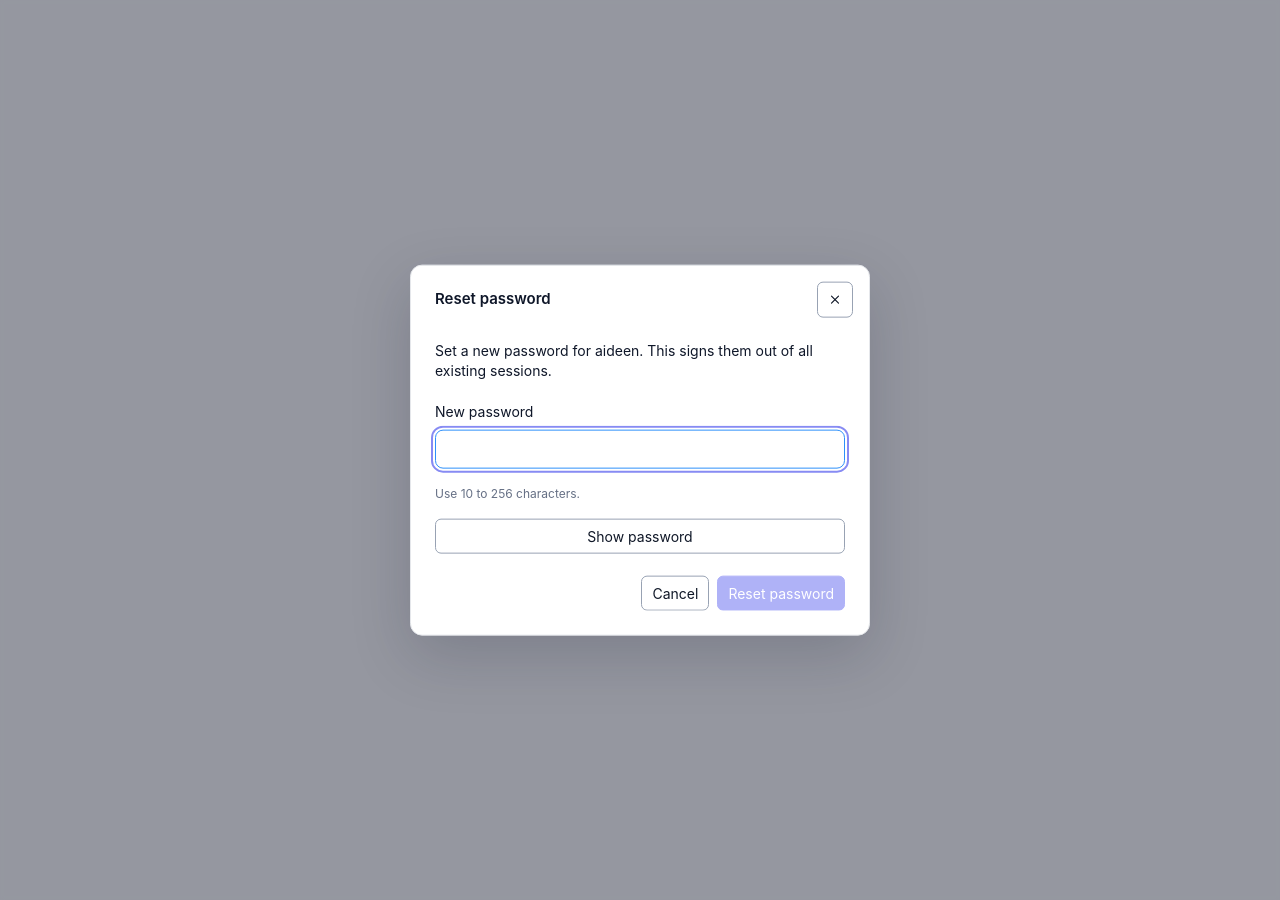
it: keeps failures in the dialog and allows retrying the selected user's reset
Expected: the text "This signs them out" shows "aideen", [435,341,813,378]
Type "replacement-password" into the password field labelled "New password" at (640, 449), box [435,429,845,468]
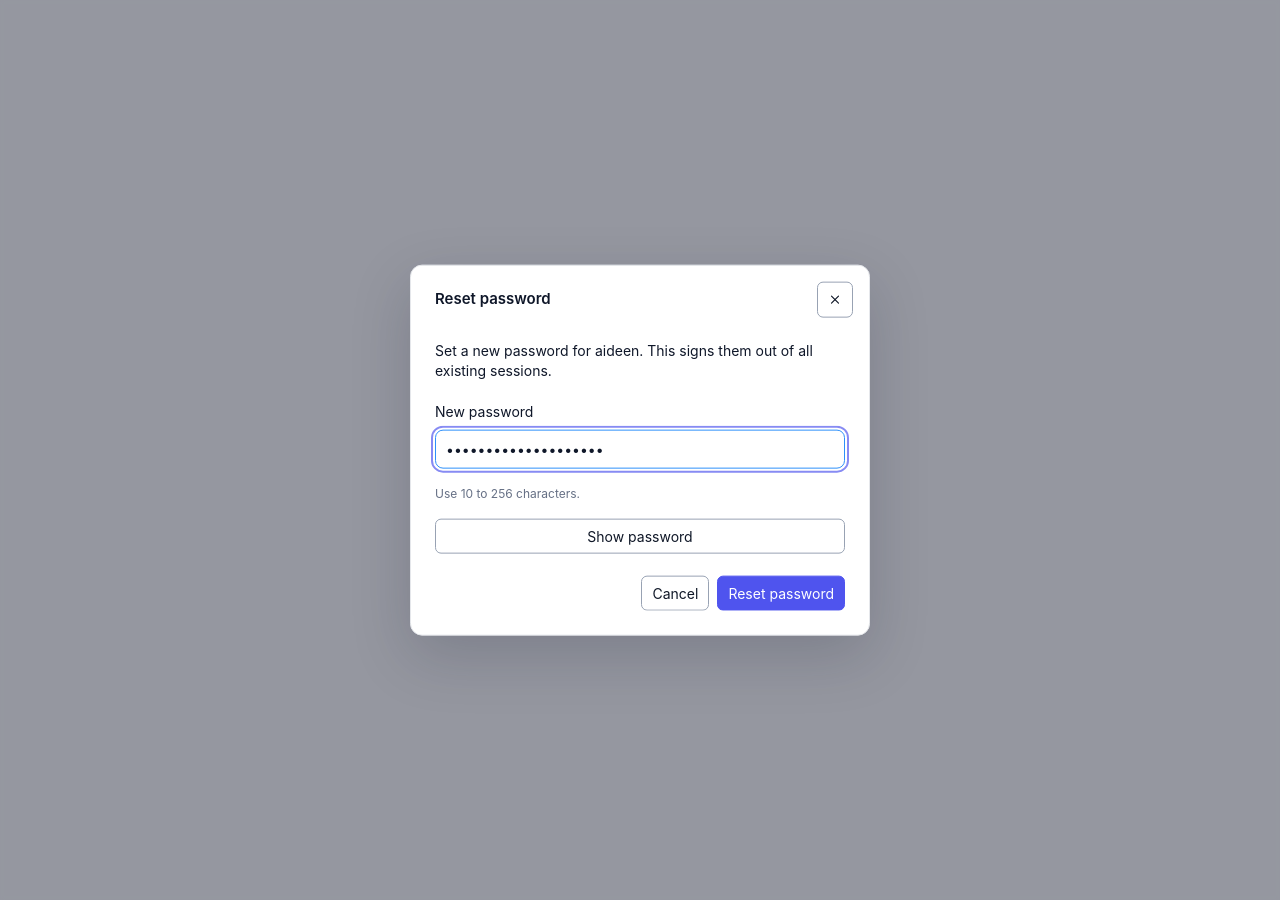
Click the button "Show password" at (640, 536), box [435,518,845,553]
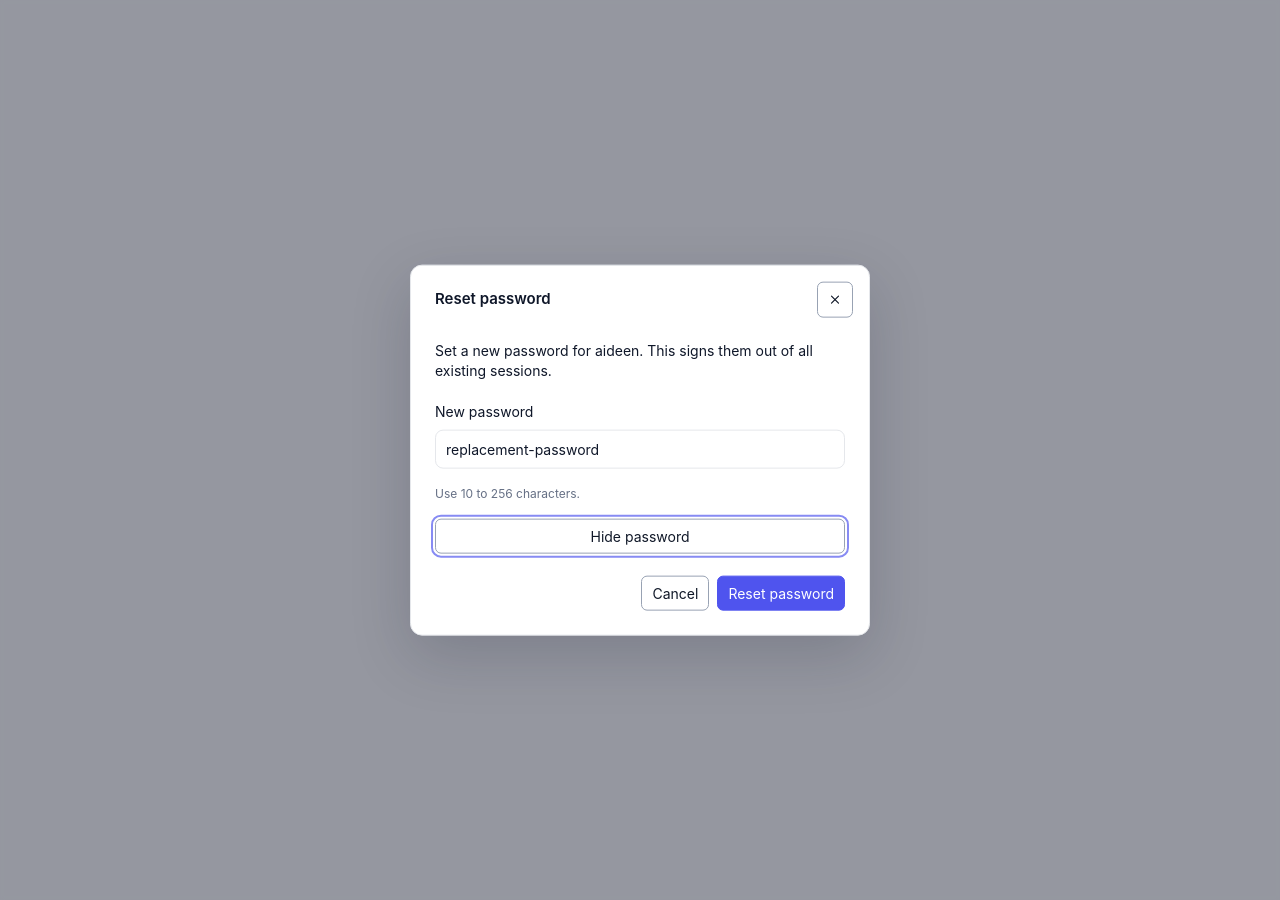
Click the button "Reset password" at (781, 593), box [717,575,845,610]
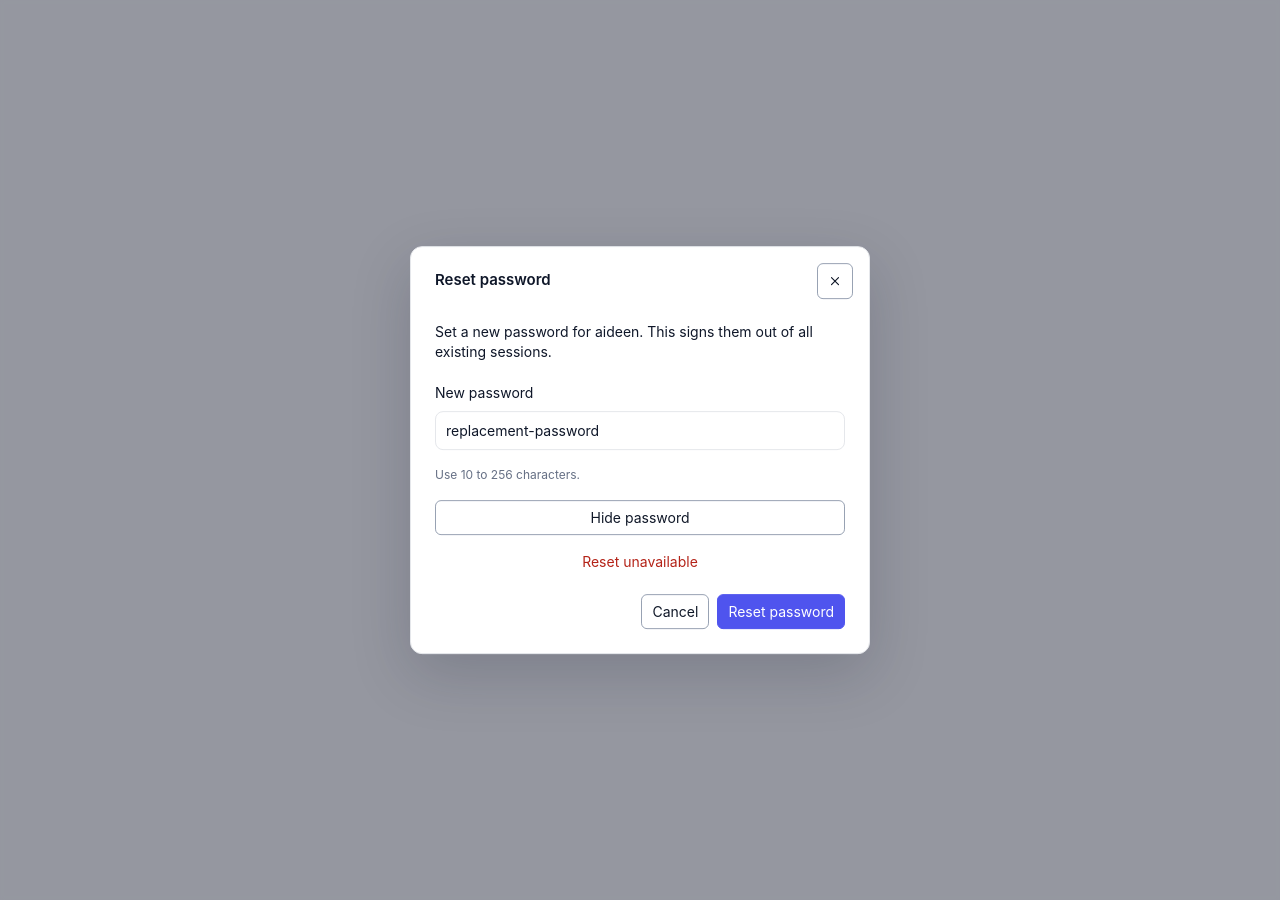
Expected: the message reads "Reset unavailable", [582,553,698,570]
Click the button "Reset password" at (781, 611), box [717,594,845,629]
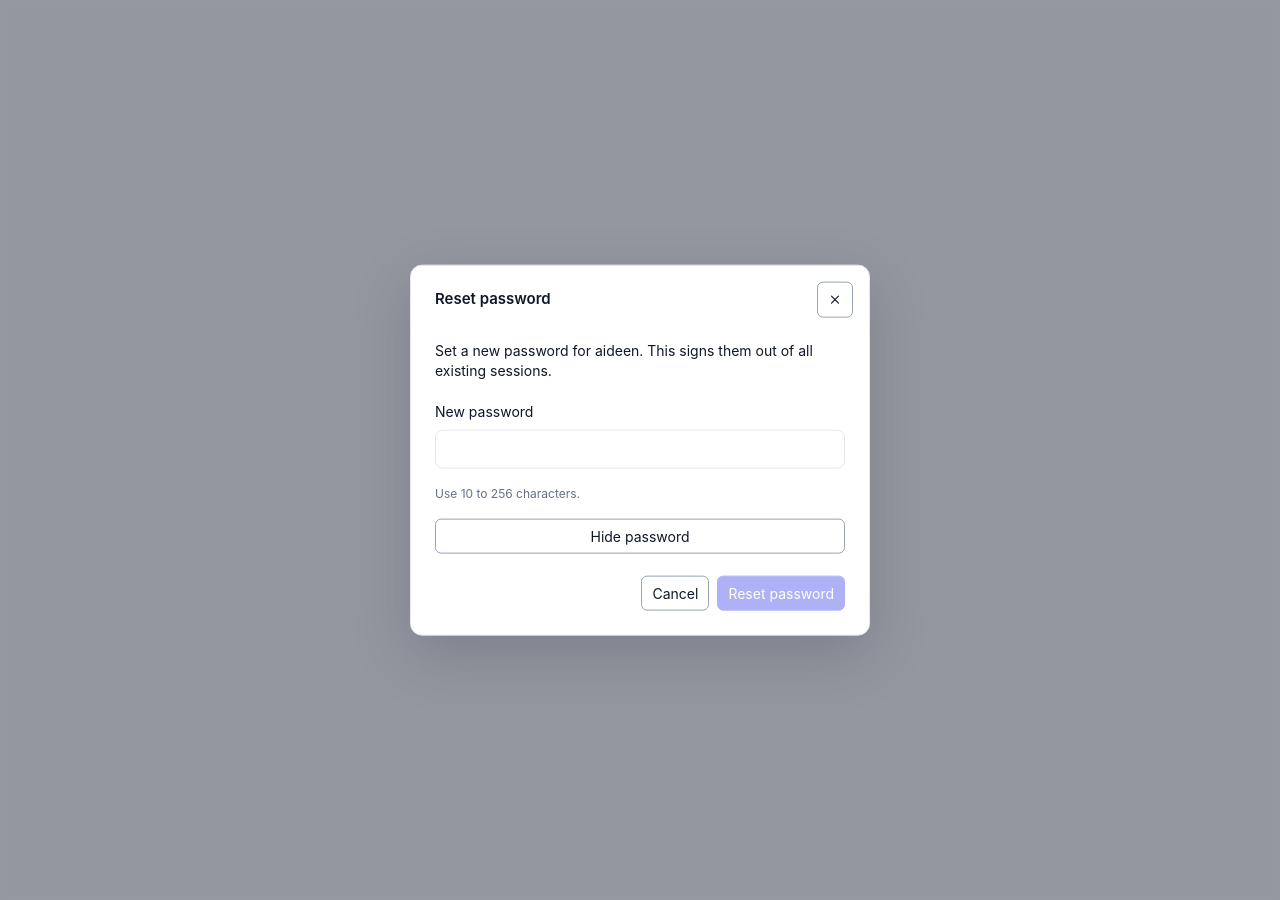
Expected: the field labelled "New password" is empty, [435,429,845,468]
